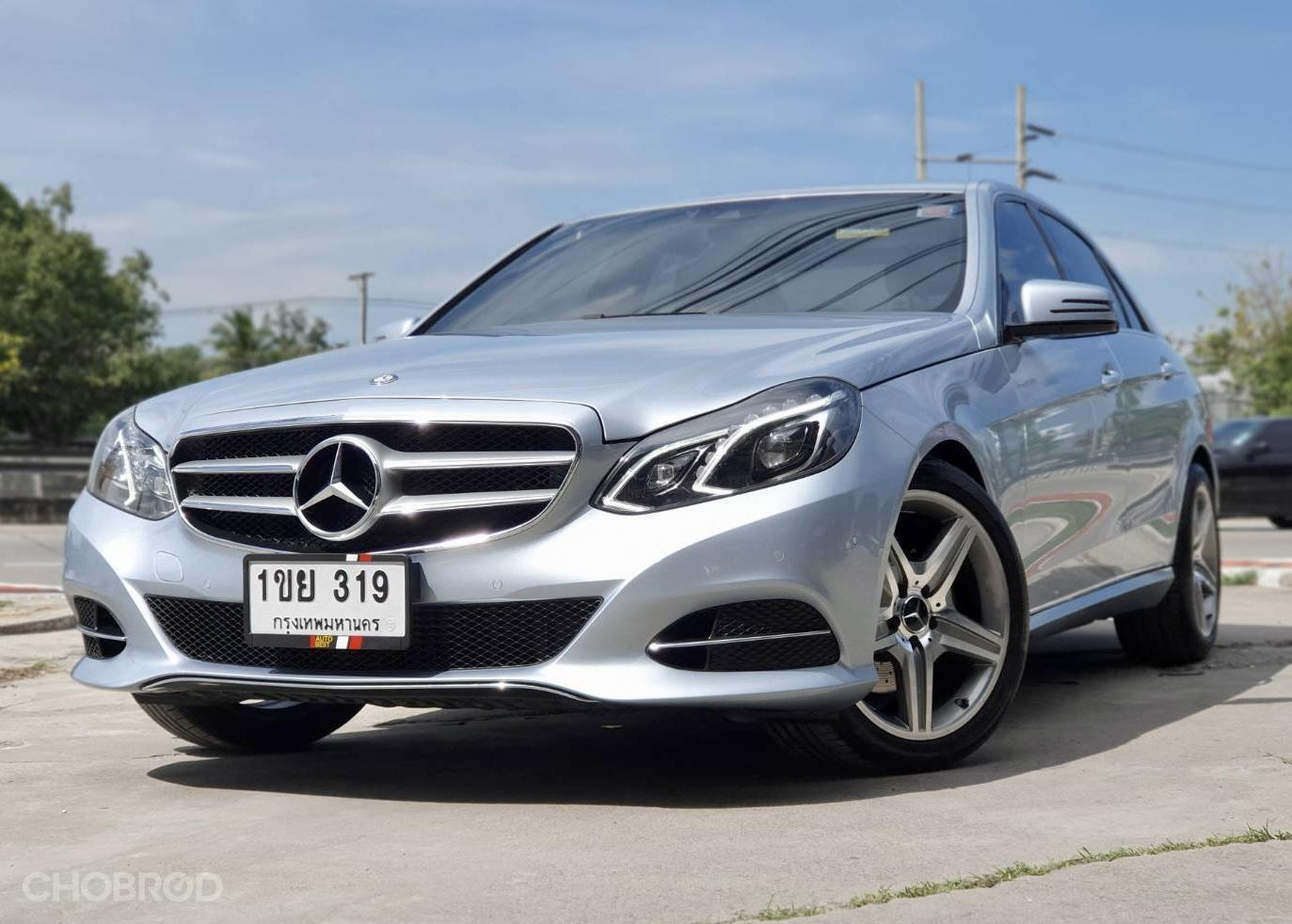license-plate: (241, 544, 411, 659)
